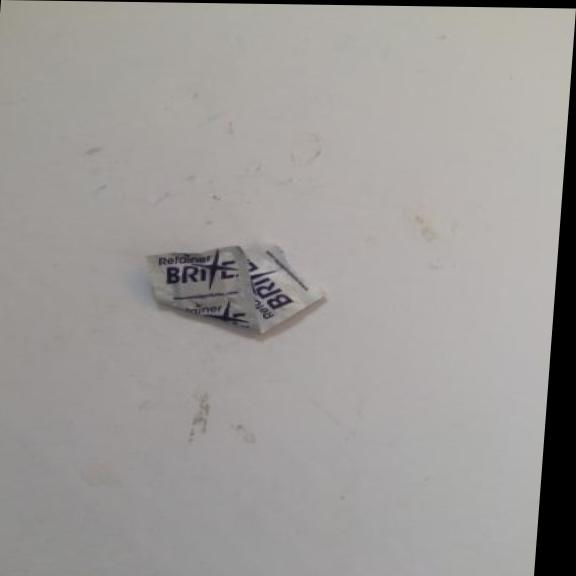Plastik: (127, 244, 332, 341)
